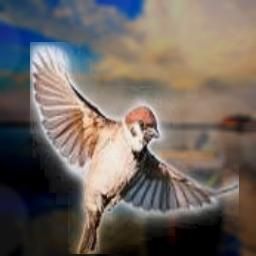Sparrow: (30, 42, 239, 254)
